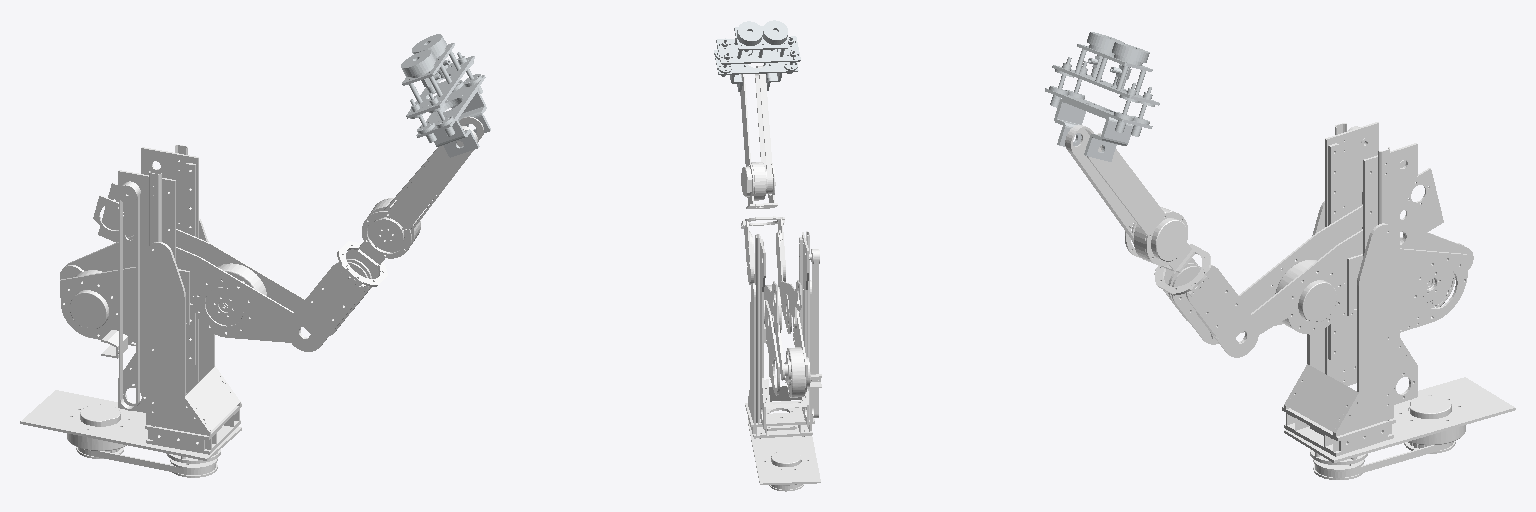
The robot description file, URDF, robot "机械臂（5轴）":
<?xml version="1.0" encoding="utf-8"?>
<!-- This URDF was automatically created by SolidWorks to URDF Exporter! Originally created by [author] ([email redacted]) 
     Commit Version: 1.6.0-4-g7f85cfe  Build Version: 1.6.7995.38578
     For more information, please see http://wiki.ros.org/sw_urdf_exporter -->
<robot
  name="机械臂（5轴）">
  <link
    name="base_link">
    <inertial>
      <origin
        xyz="-0.0732299592955473 0.106062993565924 0.0341139867558836"
        rpy="0 0 0" />
      <mass
        value="0.43929953087923" />
      <inertia
        ixx="0.00089862719189186"
        ixy="0.00037697738308092"
        ixz="-7.35315176753617E-09"
        iyy="0.000613720937325669"
        iyz="-3.08924853911105E-07"
        izz="0.00146122655252813" />
    </inertial>
    <visual>
      <origin
        xyz="0 0 0"
        rpy="0 0 0" />
      <geometry>
        <mesh
          filename="package://机械臂（5轴）/meshes/base_link.STL" />
      </geometry>
      <material
        name="">
        <color
          rgba="1 1 1 1" />
      </material>
    </visual>
    <collision>
      <origin
        xyz="0 0 0"
        rpy="0 0 0" />
      <geometry>
        <mesh
          filename="package://机械臂（5轴）/meshes/base_link.STL" />
      </geometry>
    </collision>
  </link>
  <link
    name="2l">
    <inertial>
      <origin
        xyz="-0.0410960869934557 0.0474843483002788 0.220405985532234"
        rpy="0 0 0" />
      <mass
        value="1.16079198678641" />
      <inertia
        ixx="0.00648406391259495"
        ixy="0.000311882105806877"
        ixz="3.09750716533455E-05"
        iyy="0.00630996463480758"
        iyz="-4.02964747081408E-05"
        izz="0.00105450425112164" />
    </inertial>
    <visual>
      <origin
        xyz="0 0 0"
        rpy="0 0 0" />
      <geometry>
        <mesh
          filename="package://机械臂（5轴）/meshes/2l.STL" />
      </geometry>
      <material
        name="">
        <color
          rgba="1 1 1 1" />
      </material>
    </visual>
    <collision>
      <origin
        xyz="0 0 0"
        rpy="0 0 0" />
      <geometry>
        <mesh
          filename="package://机械臂（5轴）/meshes/2l.STL" />
      </geometry>
    </collision>
  </link>
  <joint
    name="2j"
    type="revolute">
    <origin
      xyz="0 0 0"
      rpy="0 0 0" />
    <parent
      link="base_link" />
    <child
      link="2l" />
    <axis
      xyz="0 0 -1" />
    <limit
      lower="0"
      upper="0"
      effort="0"
      velocity="0" />
  </joint>
  <link
    name="3l">
    <inertial>
      <origin
        xyz="0.131378346629359 -0.0408497919665557 0.00981538810170612"
        rpy="0 0 0" />
      <mass
        value="0.365918377501711" />
      <inertia
        ixx="0.000387697409692486"
        ixy="0.000382878389907585"
        ixz="-1.14404647048175E-07"
        iyy="0.00115271717458272"
        iyz="2.87022404260402E-07"
        izz="0.00149027740596129" />
    </inertial>
    <visual>
      <origin
        xyz="0 0 0"
        rpy="0 0 0" />
      <geometry>
        <mesh
          filename="package://机械臂（5轴）/meshes/3l.STL" />
      </geometry>
      <material
        name="">
        <color
          rgba="1 1 1 1" />
      </material>
    </visual>
    <collision>
      <origin
        xyz="0 0 0"
        rpy="0 0 0" />
      <geometry>
        <mesh
          filename="package://机械臂（5轴）/meshes/3l.STL" />
      </geometry>
    </collision>
  </link>
  <joint
    name="3j"
    type="revolute">
    <origin
      xyz="-0.038789 0.079195 0.33153"
      rpy="1.5708 0 -0.92136" />
    <parent
      link="2l" />
    <child
      link="3l" />
    <axis
      xyz="0 0 -1" />
    <limit
      lower="0"
      upper="0"
      effort="0"
      velocity="0" />
  </joint>
  <link
    name="4l">
    <inertial>
      <origin
        xyz="0.0388701498664901 0.055687679104607 0.0279999999999936"
        rpy="0 0 0" />
      <mass
        value="0.142143498521383" />
      <inertia
        ixx="0.000119158830676729"
        ixy="-4.91137360755441E-05"
        ixz="5.53959547504312E-18"
        iyy="8.26862242744767E-05"
        iyz="9.02200487649862E-18"
        izz="0.000188436355839435" />
    </inertial>
    <visual>
      <origin
        xyz="0 0 0"
        rpy="0 0 0" />
      <geometry>
        <mesh
          filename="package://机械臂（5轴）/meshes/4l.STL" />
      </geometry>
      <material
        name="">
        <color
          rgba="1 1 1 1" />
      </material>
    </visual>
    <collision>
      <origin
        xyz="0 0 0"
        rpy="0 0 0" />
      <geometry>
        <mesh
          filename="package://机械臂（5轴）/meshes/4l.STL" />
      </geometry>
    </collision>
  </link>
  <joint
    name="4j"
    type="revolute">
    <origin
      xyz="0.27411 -0.069689 -0.011"
      rpy="0 0 0" />
    <parent
      link="3l" />
    <child
      link="4l" />
    <axis
      xyz="0 0 -1" />
    <limit
      lower="0"
      upper="0"
      effort="0"
      velocity="0" />
  </joint>
  <link
    name="5l">
    <inertial>
      <origin
        xyz="0.00324894791302413 0.00240975991621895 0.116507127464263"
        rpy="0 0 0" />
      <mass
        value="0.252441618012981" />
      <inertia
        ixx="0.000518284923501782"
        ixy="2.60496821508231E-05"
        ixz="2.75282879258159E-08"
        iyy="0.000504842296270746"
        iyz="-2.59435092101679E-07"
        izz="8.87859516023452E-05" />
    </inertial>
    <visual>
      <origin
        xyz="0 0 0"
        rpy="0 0 0" />
      <geometry>
        <mesh
          filename="package://机械臂（5轴）/meshes/5l.STL" />
      </geometry>
      <material
        name="">
        <color
          rgba="1 1 1 1" />
      </material>
    </visual>
    <collision>
      <origin
        xyz="0 0 0"
        rpy="0 0 0" />
      <geometry>
        <mesh
          filename="package://机械臂（5轴）/meshes/5l.STL" />
      </geometry>
    </collision>
  </link>
  <joint
    name="5j"
    type="revolute">
    <origin
      xyz="0.072259 0.10383 0.028"
      rpy="-1.5708 1.0135 -0.60799" />
    <parent
      link="4l" />
    <child
      link="5l" />
    <axis
      xyz="0 0 -1" />
    <limit
      lower="0"
      upper="0"
      effort="0"
      velocity="0" />
  </joint>
  <link
    name="6l">
    <inertial>
      <origin
        xyz="-0.0364415412133672 0.0616349571536861 0.0300019424216306"
        rpy="0 0 0" />
      <mass
        value="0.4758907523779" />
      <inertia
        ixx="0.000667926780778196"
        ixy="-1.97414077785512E-05"
        ixz="-2.21670307644172E-08"
        iyy="0.000690275244218872"
        iyz="1.23723034622649E-08"
        izz="0.000175987615663444" />
    </inertial>
    <visual>
      <origin
        xyz="0 0 0"
        rpy="0 0 0" />
      <geometry>
        <mesh
          filename="package://机械臂（5轴）/meshes/6l.STL" />
      </geometry>
      <material
        name="">
        <color
          rgba="0.898039215686275 0.917647058823529 0.929411764705882 1" />
      </material>
    </visual>
    <collision>
      <origin
        xyz="0 0 0"
        rpy="0 0 0" />
      <geometry>
        <mesh
          filename="package://机械臂（5轴）/meshes/6l.STL" />
      </geometry>
    </collision>
  </link>
  <joint
    name="6j"
    type="revolute">
    <origin
      xyz="0.023796 0.018269 0.2975"
      rpy="1.5708 -0.54369 -0.91604" />
    <parent
      link="5l" />
    <child
      link="6l" />
    <axis
      xyz="0 0 -1" />
    <limit
      lower="0"
      upper="0"
      effort="0"
      velocity="0" />
  </joint>
</robot>

--- Facts derived from the render (not from the file) ---
The picture shows the robot from 3 angles, left to right: view 1: azimuth 30°, elevation 25°; view 2: azimuth 150°, elevation 25°; view 3: azimuth 270°, elevation 25°; orthographic projection.
Model 机械臂（5轴） with 6 links and 5 joints (5 revolute), rooted at base_link, posed all joints at 0.
Visible links, largest first — view 1: 2l, 3l, base_link, 6l, 5l, 4l; view 2: 2l, 6l, base_link, 5l, 3l, 4l; view 3: 2l, 3l, base_link, 5l, 6l, 4l.
Link boxes in pixels (x1=…): 2l: x1=60, y1=145, x2=241, y2=477; 3l: x1=93, y1=182, x2=306, y2=342; base_link: x1=20, y1=390, x2=241, y2=474; 6l: x1=401, y1=34, x2=490, y2=157; 5l: x1=357, y1=116, x2=483, y2=267; 4l: x1=286, y1=241, x2=387, y2=351; 2l: x1=745, y1=231, x2=821, y2=438; 6l: x1=714, y1=20, x2=800, y2=91; base_link: x1=748, y1=420, x2=820, y2=491; 5l: x1=740, y1=66, x2=777, y2=208; 3l: x1=764, y1=280, x2=801, y2=333; 4l: x1=741, y1=216, x2=785, y2=284; 2l: x1=1282, y1=122, x2=1473, y2=479; 3l: x1=1210, y1=160, x2=1443, y2=342; base_link: x1=1284, y1=377, x2=1515, y2=477; 5l: x1=1065, y1=125, x2=1194, y2=272; 6l: x1=1045, y1=32, x2=1159, y2=161; 4l: x1=1154, y1=244, x2=1258, y2=357.
Size in the robot's own frame: 0.511 by 0.6402 by 0.7517 metres.
Meshes: 6 distinct files referenced, 6 mesh visuals loaded (6 binary STL).